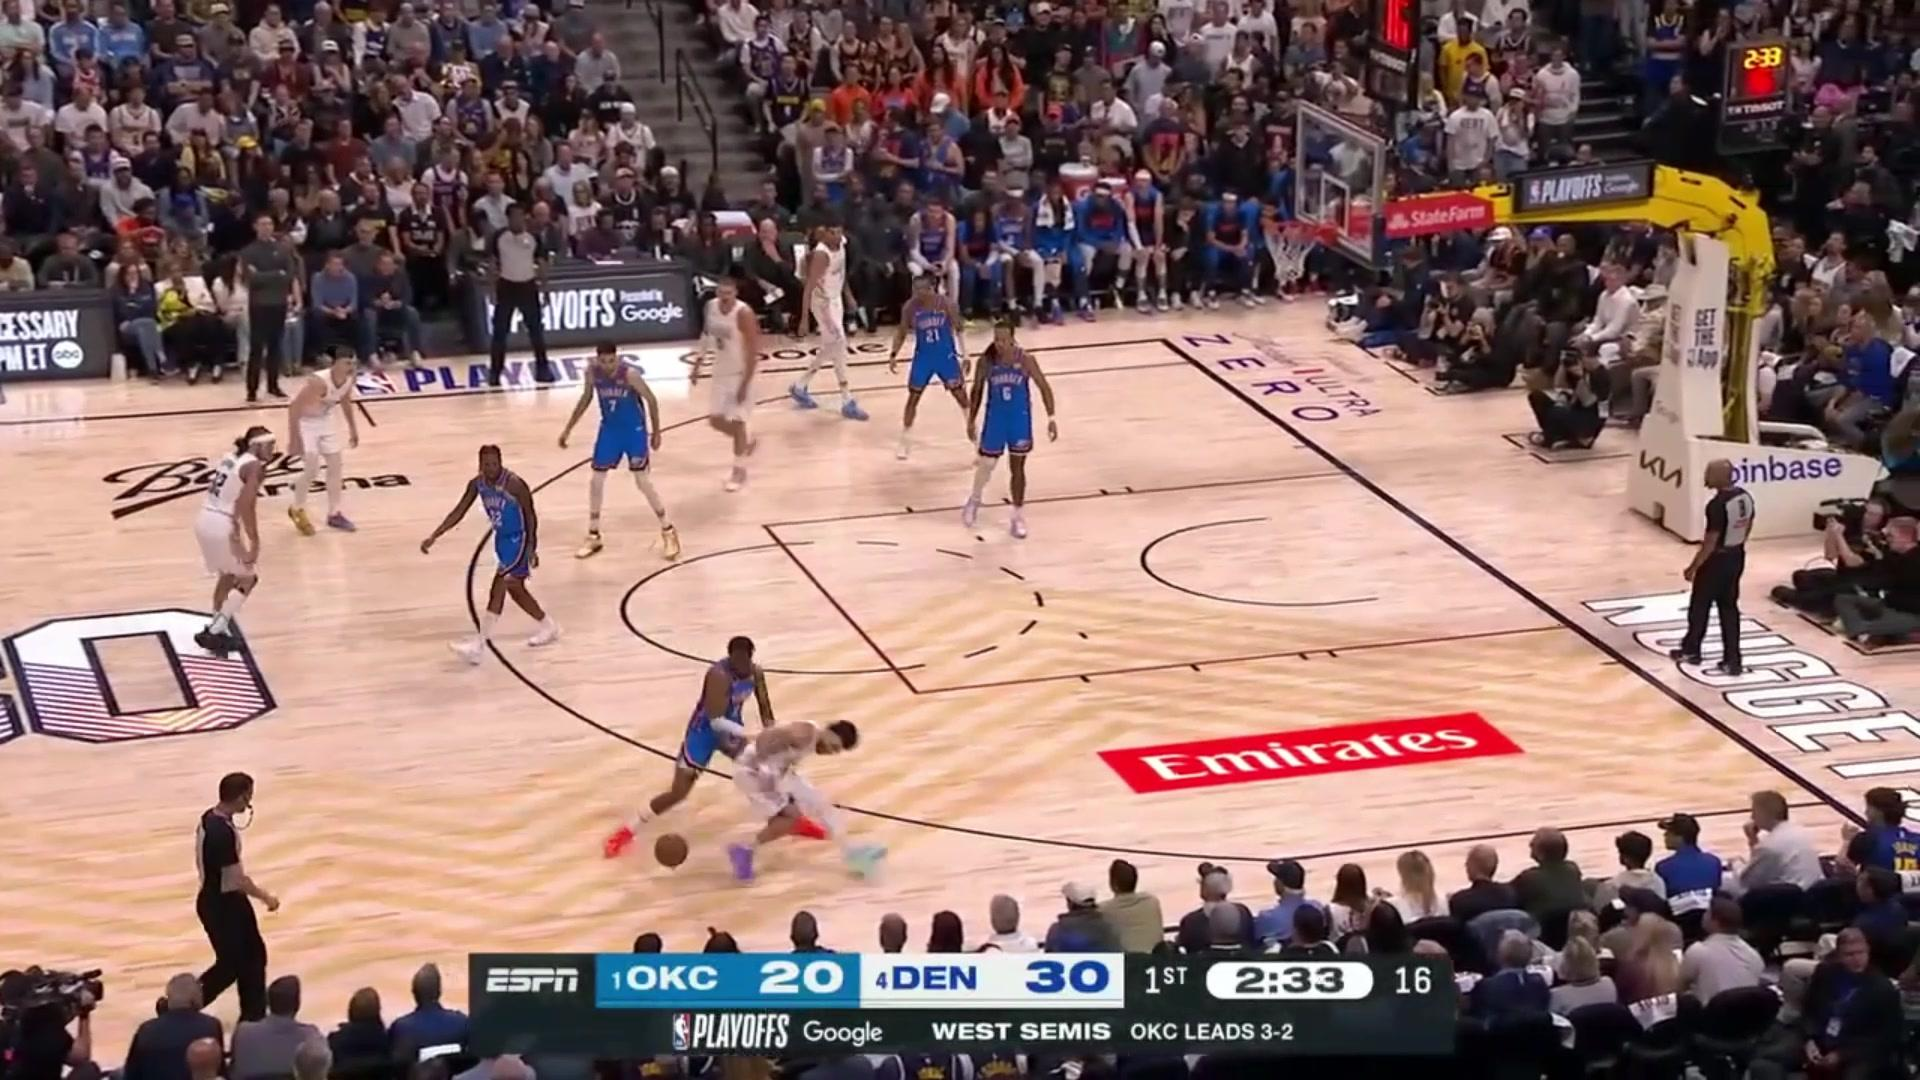foul: (597, 625, 903, 890)
